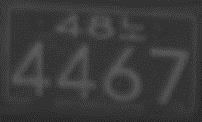4: (10, 40, 51, 96), (57, 44, 96, 100), (55, 13, 84, 39)
6: (103, 46, 143, 104)
7: (148, 46, 190, 105)
8: (87, 12, 115, 40)
노: (118, 15, 146, 41)
